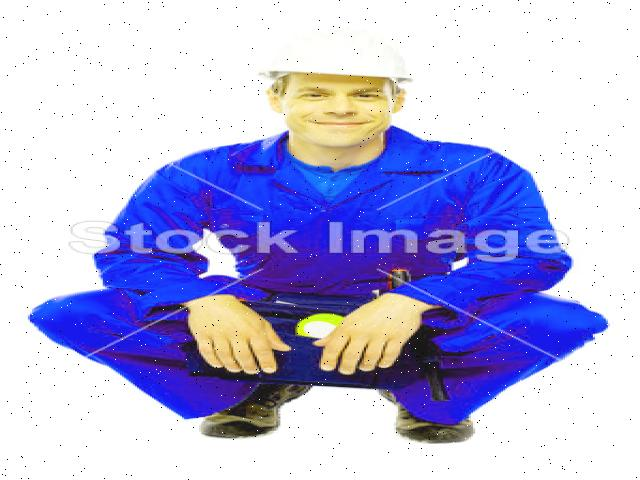Helmet: (248, 21, 430, 88)
